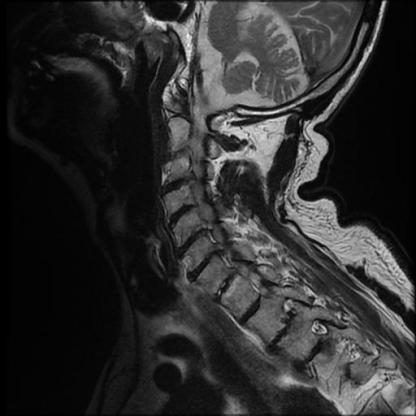Disc Bulgerotation: (183, 250, 230, 278), (169, 228, 215, 249), (160, 177, 197, 193), (164, 206, 198, 223), (161, 148, 192, 164)
Disc Protrusionrotation: (160, 148, 191, 164)
